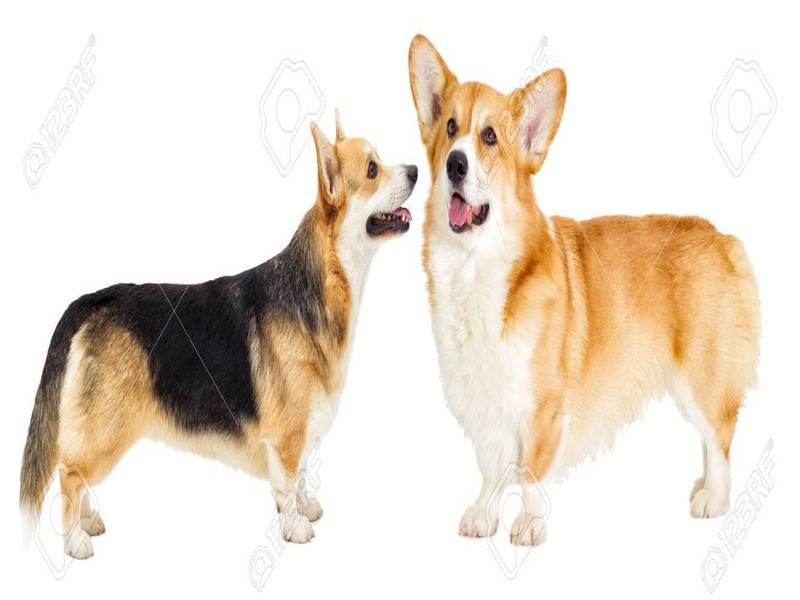corgi: (409, 34, 568, 235)
